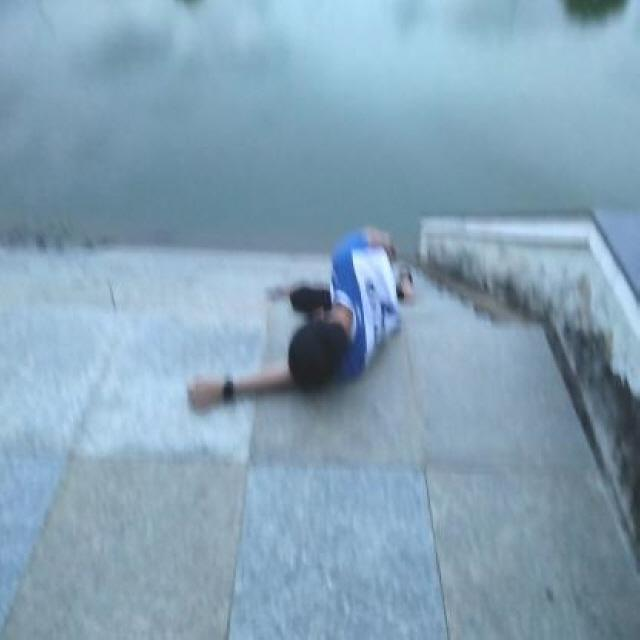Fall: (188, 227, 413, 412)
